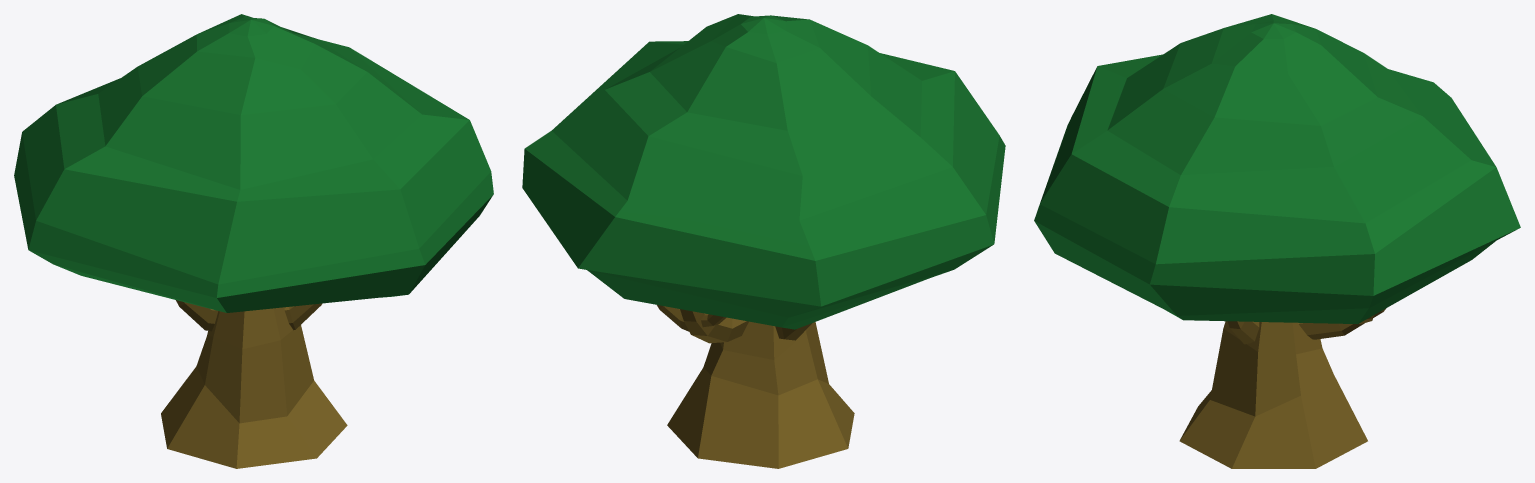
File: tree_7.gltf
3 renders of one model, left to right at view 1: azimuth 30°, elevation 25°; view 2: azimuth 150°, elevation 25°; view 3: azimuth 270°, elevation 25°, orthographic.
Parts seen in each view (by area): view 1: Circle.005_Material.014_0, Circle.005_Material.013_0; view 2: Circle.005_Material.014_0, Circle.005_Material.013_0; view 3: Circle.005_Material.014_0, Circle.005_Material.013_0.
Part boxes in pixels (left/top/right/bottom): Circle.005_Material.014_0: left=14, top=14, right=493, bottom=312; Circle.005_Material.013_0: left=161, top=300, right=347, bottom=468; Circle.005_Material.014_0: left=522, top=14, right=1005, bottom=329; Circle.005_Material.013_0: left=657, top=305, right=854, bottom=468; Circle.005_Material.014_0: left=1034, top=14, right=1520, bottom=323; Circle.005_Material.013_0: left=1179, top=308, right=1386, bottom=468.
Bounding box in the file's own units: 9.92 × 9.29 × 10.03.
